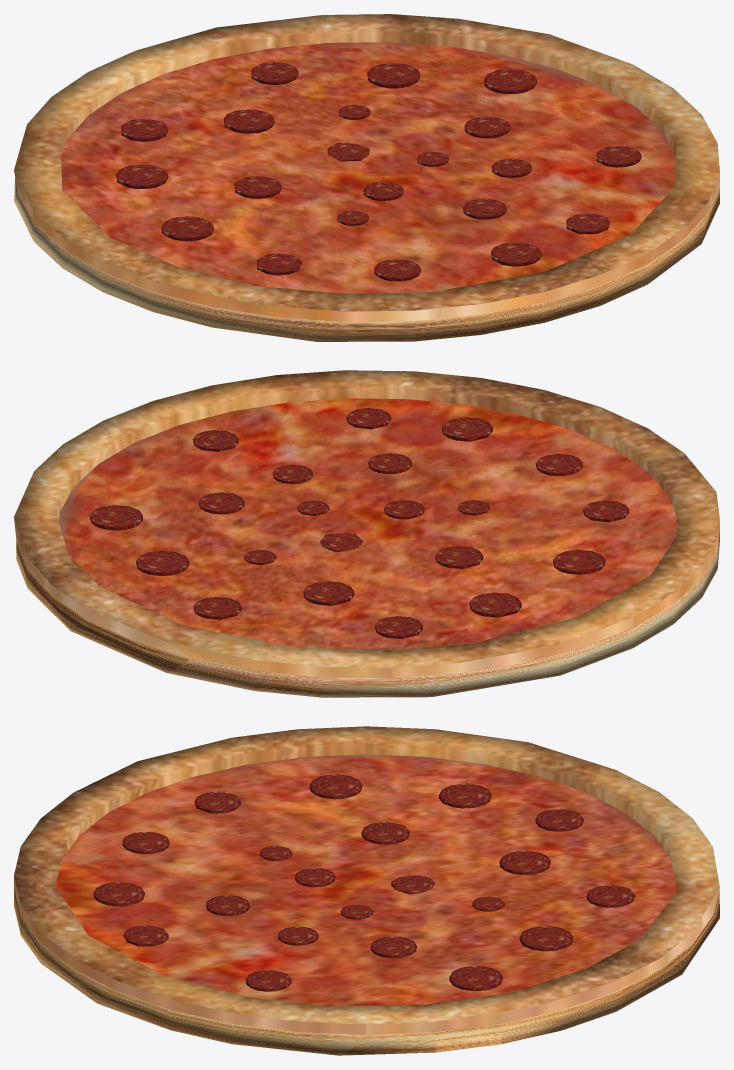
File: breakingbadpizza.fbx
The picture shows the model from 3 angles, top to bottom: view 1: azimuth 30°, elevation 25°; view 2: azimuth 150°, elevation 25°; view 3: azimuth 270°, elevation 25°; orthographic projection.
Visible parts, largest first — view 1: Cylinder, Circle.002, Circle.017, Circle.011, Circle.010, Circle.001, Circle.018, Circle.014, Circle.015, Circle.003, Circle.006, Circle.009 (+7 smaller); view 2: Cylinder, Circle.002, Circle.017, Circle.011, Circle.010, Circle.001, Circle.018, Circle.015, Circle.003, Circle.014, Circle.006, Circle.009 (+7 smaller); view 3: Cylinder, Circle.002, Circle.017, Circle.011, Circle.010, Circle.001, Circle.018, Circle.003, Circle.014, Circle.015, Circle.006, Circle.009 (+7 smaller).
Boxes of the visible parts, x1,y1,x2,y2 form: Cylinder: (14,14,719,341); Circle.002: (367,63,420,88); Circle.017: (484,68,536,93); Circle.011: (161,216,213,241); Circle.010: (116,164,168,188); Circle.001: (223,109,274,133); Circle.018: (491,242,541,266); Circle.014: (121,118,168,141); Circle.015: (251,62,298,84); Circle.003: (234,176,281,198); Circle.006: (374,259,420,281); Circle.009: (464,116,510,138); Cylinder: (14,370,719,697); Circle.002: (136,550,189,575); Circle.017: (89,505,142,530); Circle.011: (553,549,605,574); Circle.010: (469,592,521,617); Circle.001: (303,581,354,605); Circle.018: (441,417,492,441); Circle.015: (193,596,241,619); Circle.003: (435,546,483,568); Circle.014: (374,616,422,638); Circle.006: (535,453,582,476); Circle.009: (198,492,244,514); Cylinder: (14,726,719,1055); Circle.002: (519,926,573,951); Circle.017: (449,966,502,991); Circle.011: (309,774,362,799); Circle.010: (439,783,491,808); Circle.001: (499,850,550,874); Circle.018: (93,882,144,906); Circle.003: (361,821,409,844); Circle.014: (535,808,583,831); Circle.015: (586,884,634,907); Circle.006: (122,832,169,854); Circle.009: (370,936,416,958).
Bounding box in the file's own units: 200 × 9.67 × 200.
